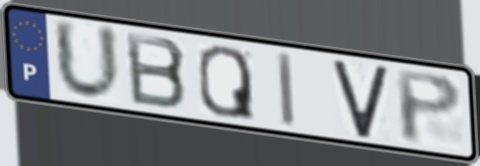B: (122, 29, 190, 112)
I: (275, 49, 297, 131)
P: (392, 67, 465, 147)
Q: (196, 43, 258, 123)
U: (50, 15, 125, 104)
V: (329, 59, 391, 141)
